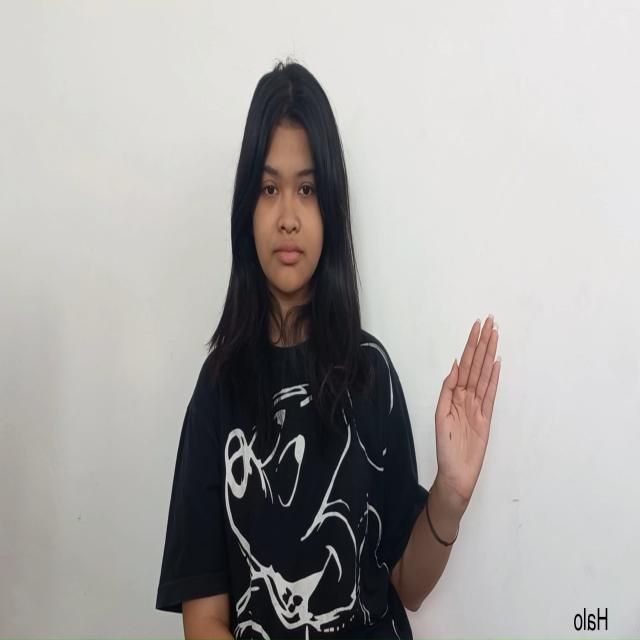Halo -BISINDO-: (434, 313, 503, 507)
